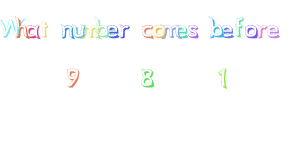1: (210, 63, 236, 92)
8: (134, 62, 160, 91)
9: (60, 61, 84, 93)
W: (1, 16, 20, 45)
a: (26, 21, 41, 41)
b: (206, 14, 222, 41), (96, 12, 108, 44)
c: (140, 21, 153, 43)
e: (267, 23, 283, 40), (177, 21, 188, 42), (107, 21, 118, 41), (223, 23, 234, 40)
f: (233, 15, 245, 40)
h: (16, 13, 27, 40)
m: (164, 19, 179, 42), (84, 21, 99, 41)
n: (59, 20, 74, 41)
o: (154, 23, 167, 43), (245, 24, 258, 41)
r: (119, 22, 133, 41), (257, 21, 267, 42)
s: (187, 21, 202, 41)
t: (39, 18, 53, 42)
u: (71, 19, 86, 42)
